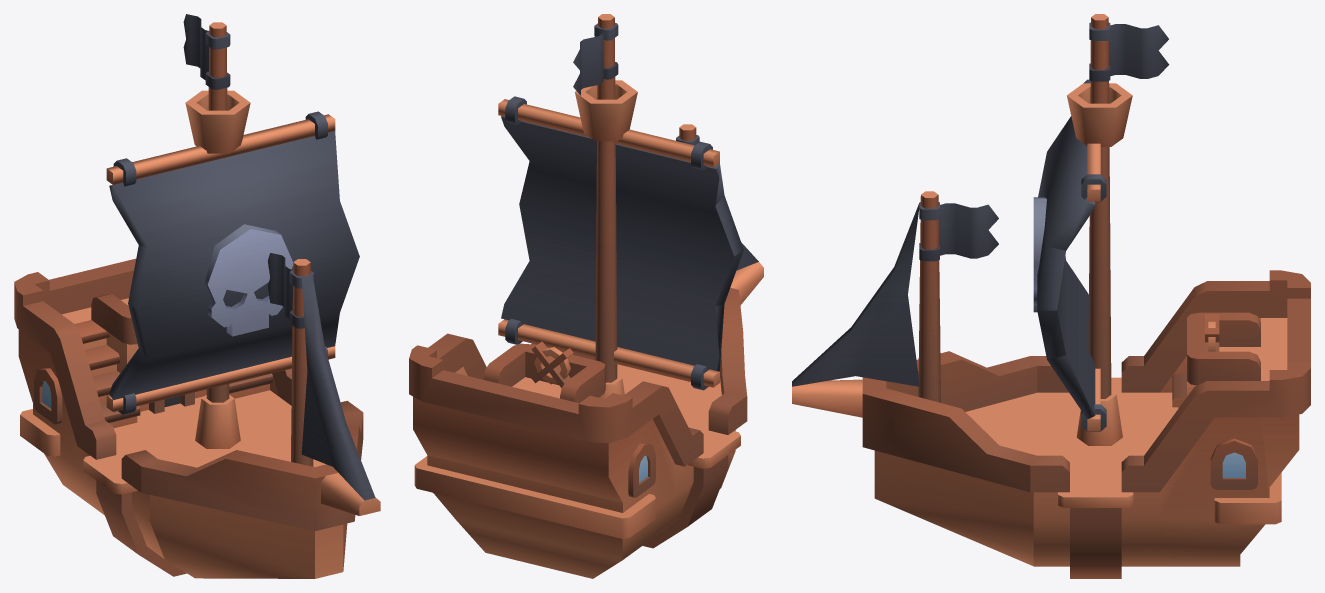
Rendered from ship-pirate-small.gltf.
3 views of the same model, side by side, from view 1: azimuth 30°, elevation 25°; view 2: azimuth 150°, elevation 25°; view 3: azimuth 270°, elevation 25° (orthographic). The views are drawn at different scales.
Parts seen in each view (by area): view 1: ship-pirate-small, sail-a, flag-b, flag-a; view 2: ship-pirate-small, sail-a, flag-b; view 3: ship-pirate-small, sail-a, flag-a, flag-b.
Boxes of the visible parts, x1,y1,x2,y2 form: ship-pirate-small: (14, 22, 380, 578); sail-a: (106, 111, 359, 414); flag-b: (183, 14, 230, 89); flag-a: (267, 253, 314, 328); ship-pirate-small: (409, 14, 763, 578); sail-a: (498, 96, 743, 390); flag-b: (573, 23, 618, 95); ship-pirate-small: (792, 14, 1310, 578); sail-a: (1033, 79, 1106, 431); flag-a: (919, 202, 998, 261); flag-b: (1089, 22, 1169, 81).
Size of the model in its own units: 4.8 by 9.96 by 8.8.
1 material, 1 textured.
